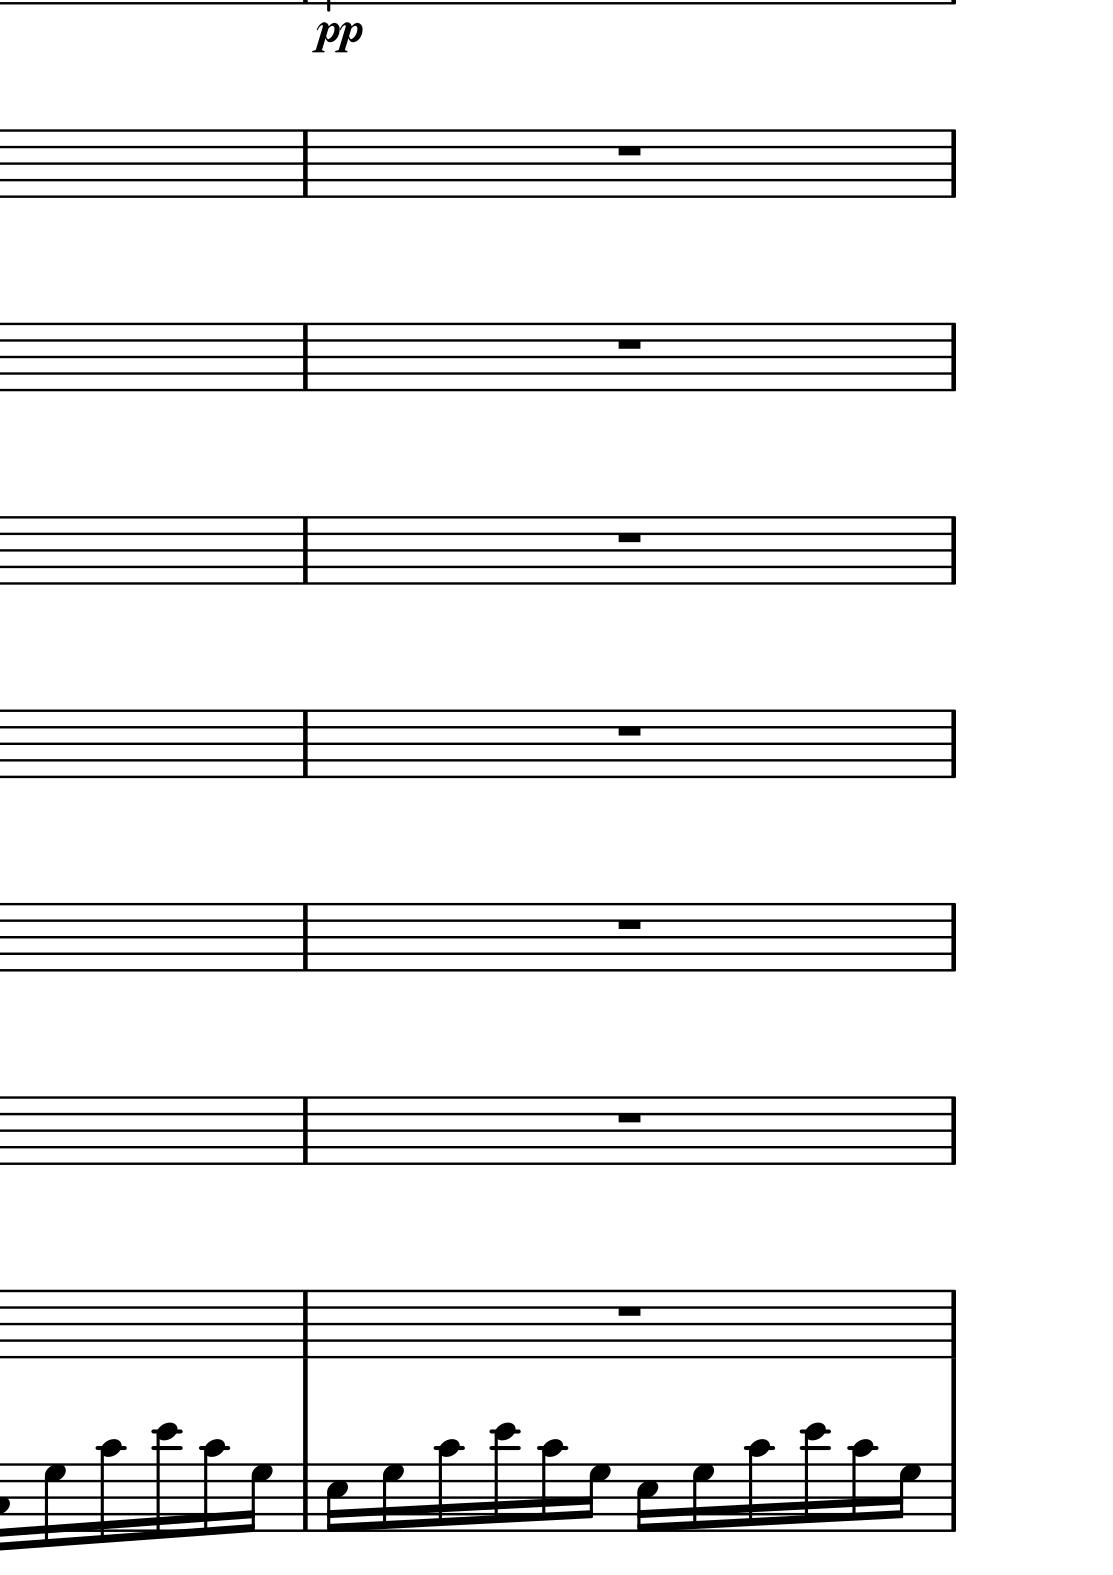16_10: (95, 1437, 123, 1546), (200, 1439, 229, 1536), (848, 1439, 877, 1534), (434, 1438, 463, 1532), (537, 1437, 565, 1534), (744, 1437, 772, 1533)
16_12: (152, 1421, 178, 1541), (490, 1420, 518, 1533), (801, 1422, 828, 1536)
16_5: (634, 1462, 661, 1536), (324, 1462, 351, 1535)
16_7: (581, 1463, 611, 1536), (689, 1461, 717, 1536), (246, 1462, 273, 1534), (378, 1461, 405, 1535), (896, 1462, 923, 1533), (43, 1462, 65, 1549)
Rests1: (613, 527, 644, 548), (616, 141, 646, 161), (616, 720, 644, 741), (614, 915, 644, 934), (614, 1302, 646, 1320), (616, 334, 644, 353), (616, 1109, 644, 1125)
Single_barline: (938, 708, 964, 780), (291, 1290, 317, 1359), (938, 1096, 964, 1166), (940, 515, 964, 588), (291, 709, 317, 778), (291, 1097, 317, 1166), (940, 902, 964, 973), (291, 128, 316, 197), (291, 517, 316, 586), (291, 1463, 316, 1532), (291, 903, 316, 972), (941, 1461, 962, 1535), (940, 323, 962, 393), (940, 130, 962, 199), (940, 1288, 962, 1356), (293, 323, 316, 389)
pp: (311, 17, 363, 55)
